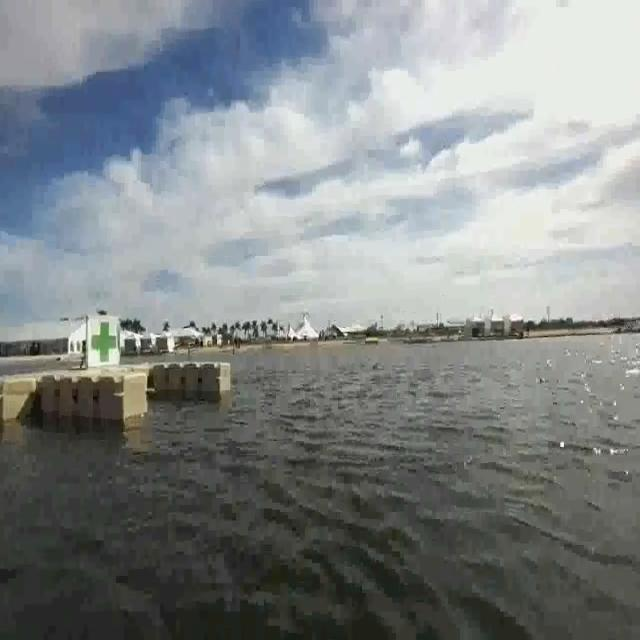blue-cross: (90, 314, 118, 369)
